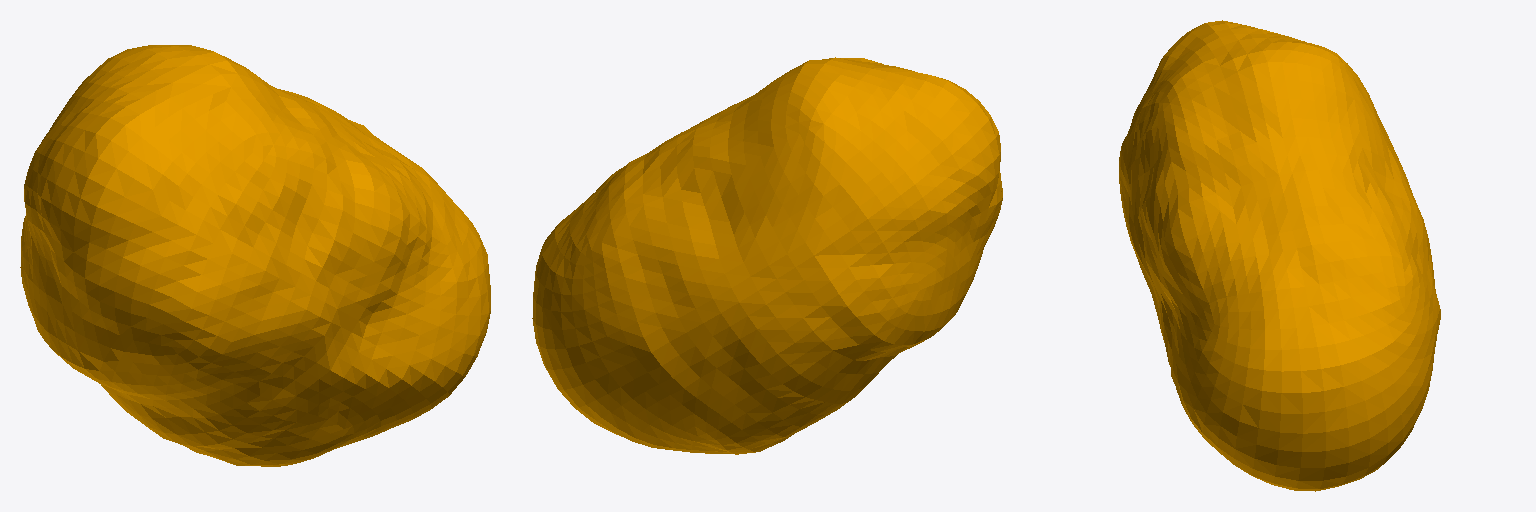
robot.urdf — rock:
<?xml version="1.0" ?>
<robot name="rock">
  <link name="rock">
    <inertial>
      <mass value="0.25"/>
      <origin rpy="0 0 0" xyz="0 0 0"/>
      <inertia ixx="0.00025" ixy="0" ixz="0" iyy="0.00025" iyz="0" izz="0.00025"/>
    </inertial>
    <collision name="rock_collision">
      <origin rpy="0 0 0" xyz="0 0 0"/>
      <geometry>
        <mesh filename="package://rocks/collision/22.stl" scale="1 1 1"/>
      </geometry>
    </collision>
    <visual name="rock_visual">
      <origin rpy="0 0 0" xyz="0 0 0"/>
      <geometry>
        <mesh filename="package://rocks/visual/22.dae" scale="1 1 1"/>
      </geometry>
    </visual>
  </link>
</robot>

--- What the picture shows (computed from the rendered views, not written in the file) ---
3 views of the same robot in one strip: view 1: azimuth 30°, elevation 25°; view 2: azimuth 150°, elevation 25°; view 3: azimuth 270°, elevation 25° (orthographic).
Model rock with 1 links and 0 joints (none), rooted at rock, posed every joint at zero.
Visible links, largest first — view 1: rock; view 2: rock; view 3: rock.
Link boxes in pixels (x1,y1,x2,y2): rock: (20,45,490,466); rock: (532,57,1002,454); rock: (1119,20,1440,491).
Bounding box of the posed robot: 0.0749 × 0.0545 × 0.0683 m (x, y, z).
Meshes: 1 distinct files referenced, 1 mesh visuals loaded (1 Collada DAE).